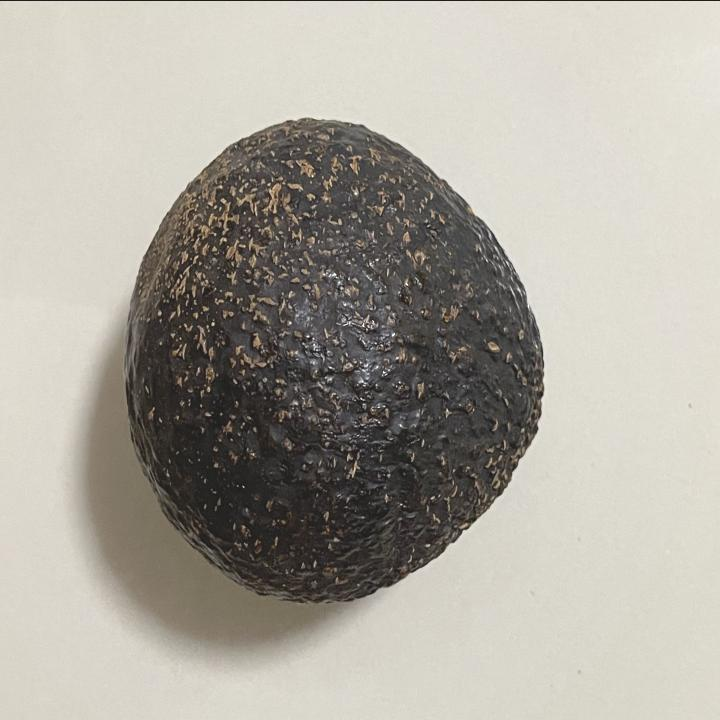Level3: (115, 102, 556, 618)
